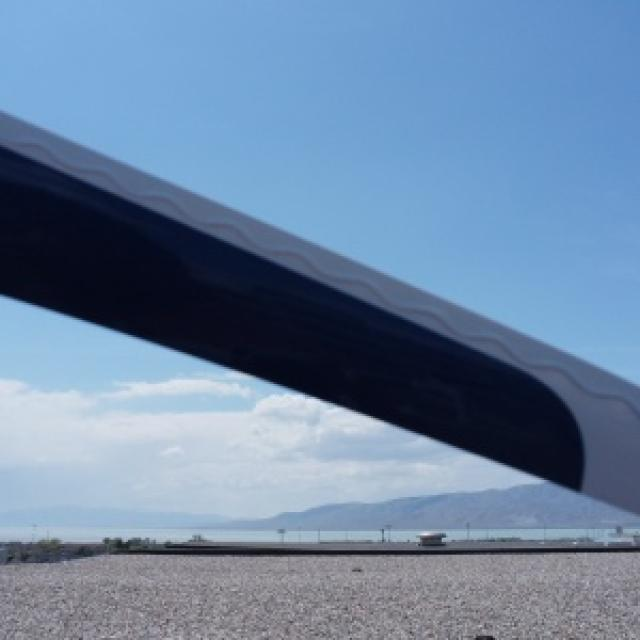healthy: (0, 113, 638, 512)
